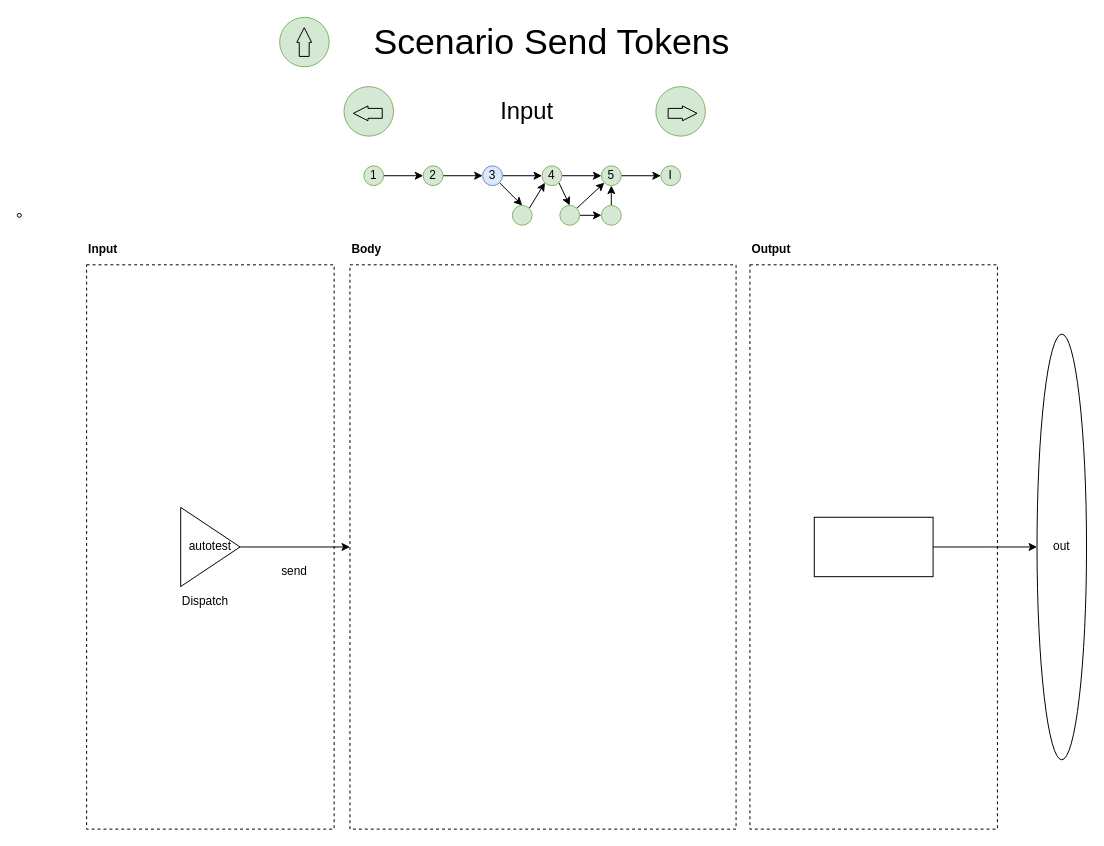
This 1104x846 diagram has some shape labels left out. Each missing label, with the centre of its shape:
S1: (521,214)
S2: (610,214)
T1: (569,214)
Tokens sent: (873,546)
